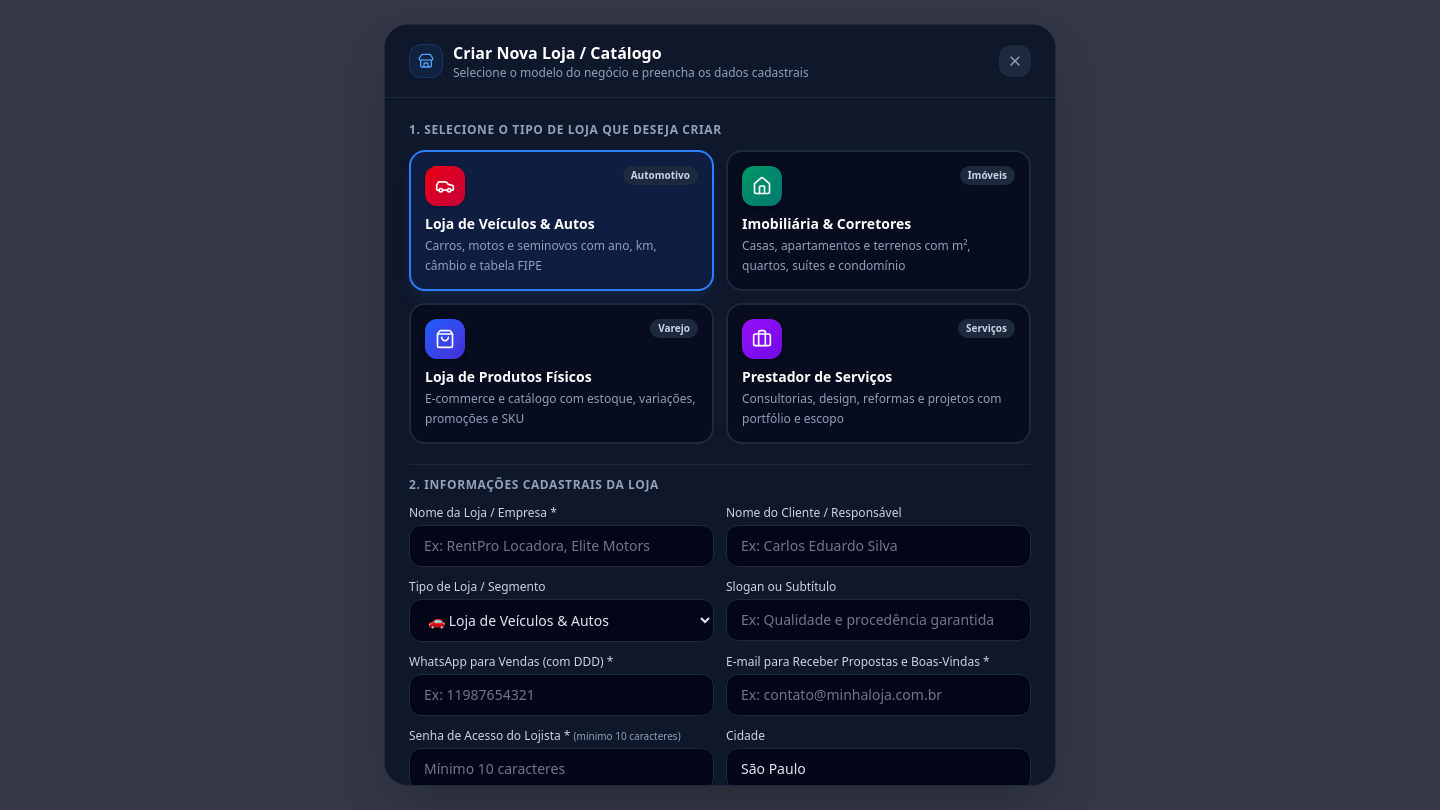
Test: StoreCreatorModal - Tratamento de Erros e Usabilidade › Componente StoreCreatorModal - Exibição, Scroll e Foco de Erro › mapeia erro 400 exibindo o campo e a mensagem de validação do servidor
Step 1. Type "Auto Peças Modelo" into the field with placeholder "Ex: RentPro Locadora, Elite Motors" → (562, 546), box [409,525,714,567]
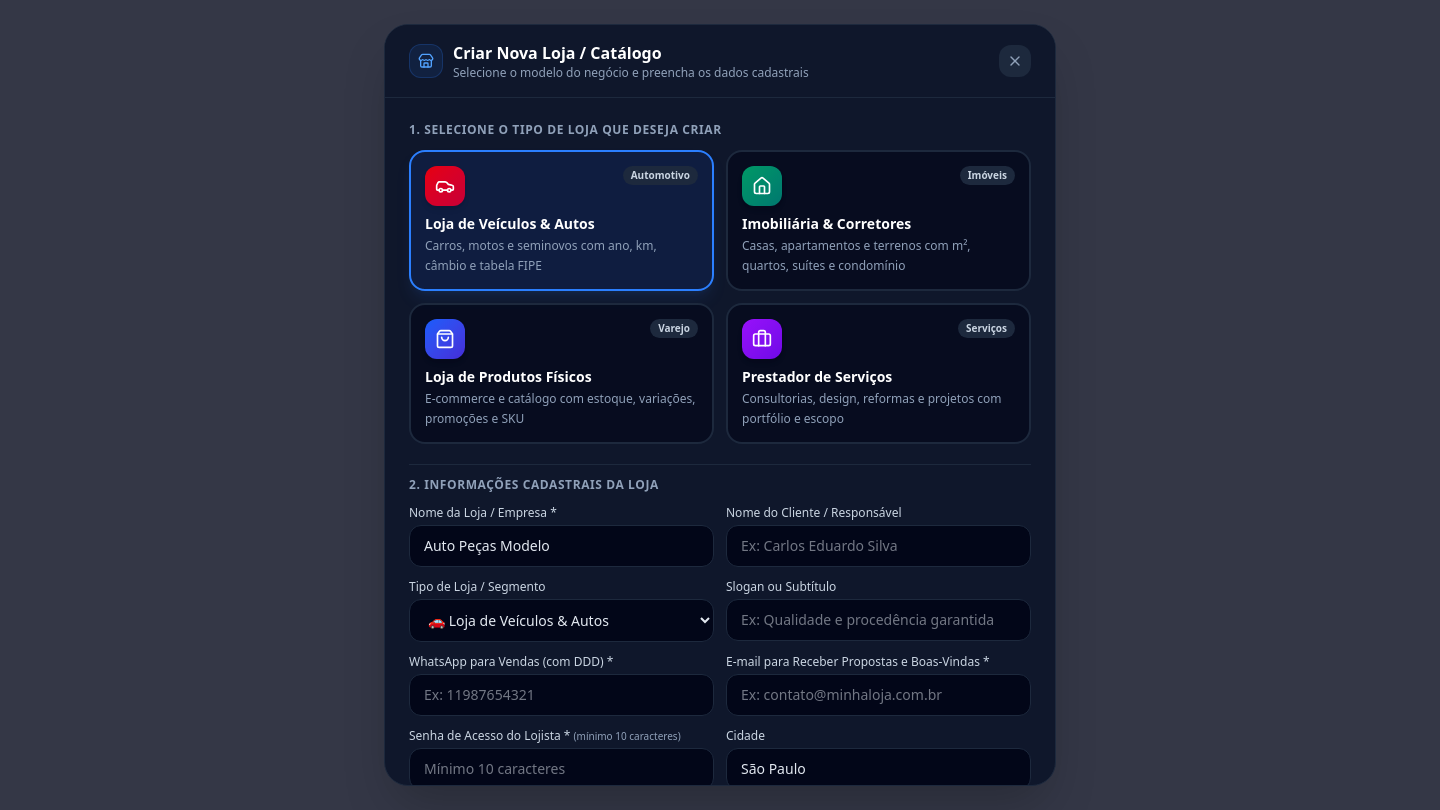
Step 2. Type "11988887777" into the field with placeholder "Ex: 11987654321" → (562, 695), box [409,674,714,716]
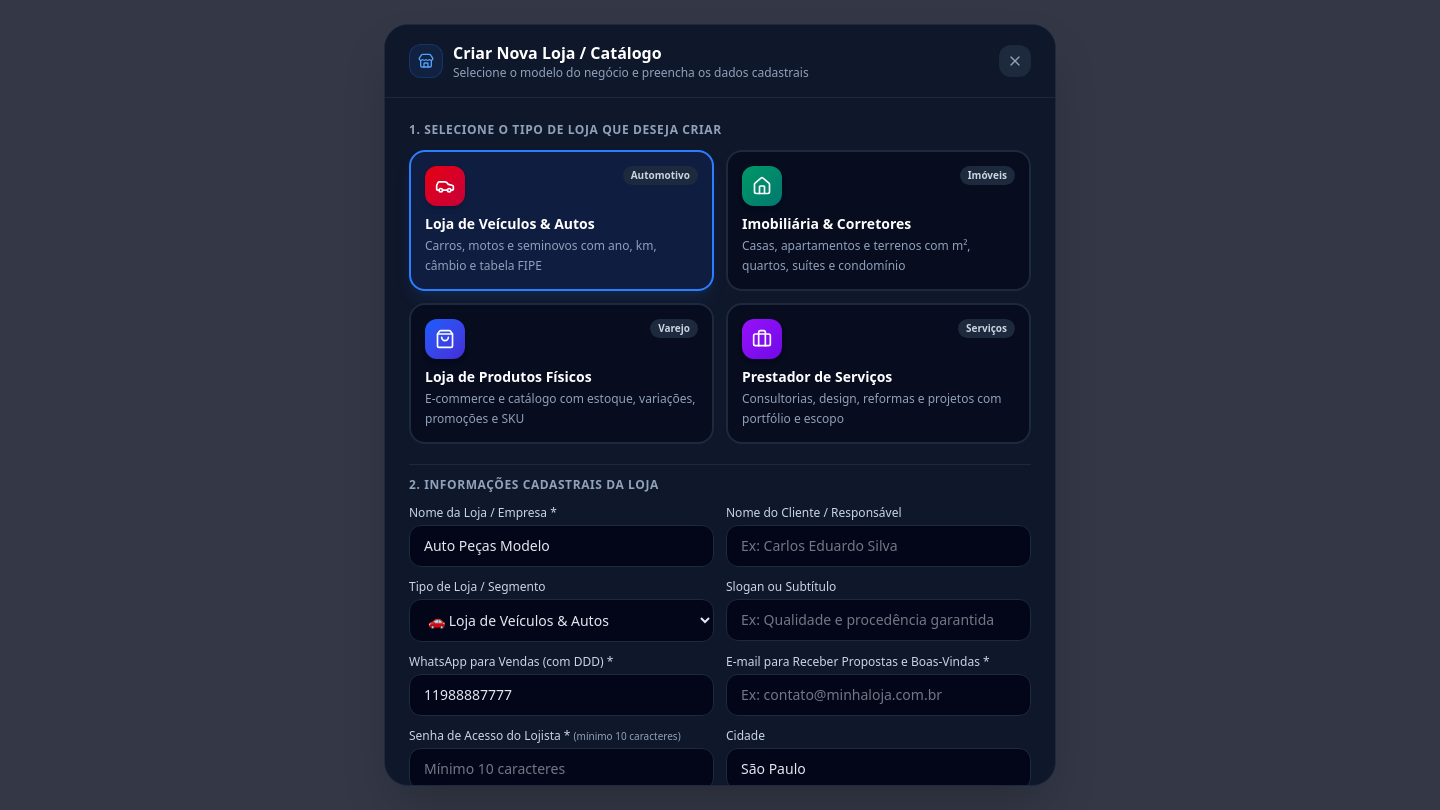
Step 3. Type "contato@modelo.com" into the field with placeholder "Ex: contato@minhaloja.com.br" → (878, 695), box [726,674,1031,716]
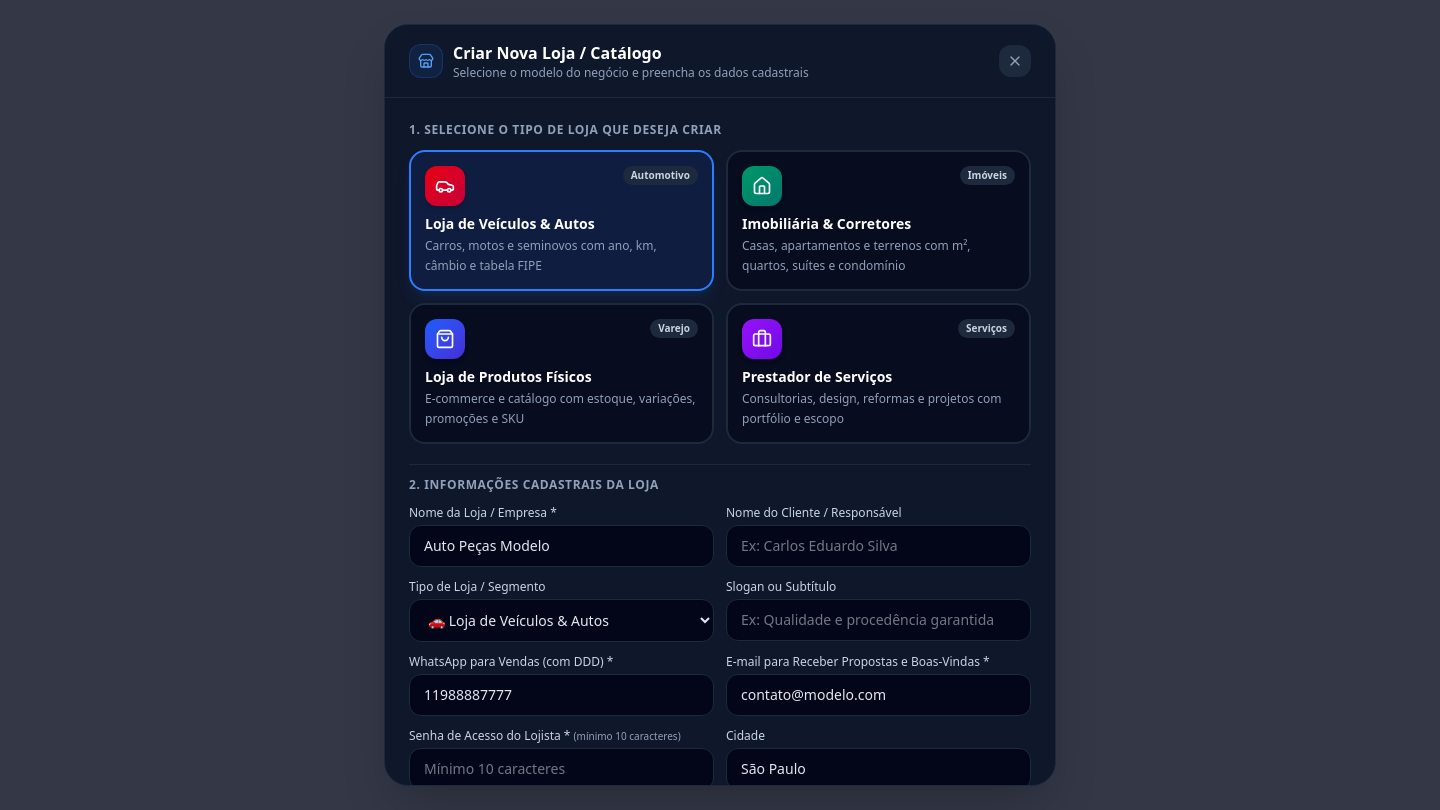
Step 4. Type "SenhaSegura123!" into the password field with placeholder "Mínimo 10 caracteres" → (562, 769), box [409,748,714,790]
(page scrolled)
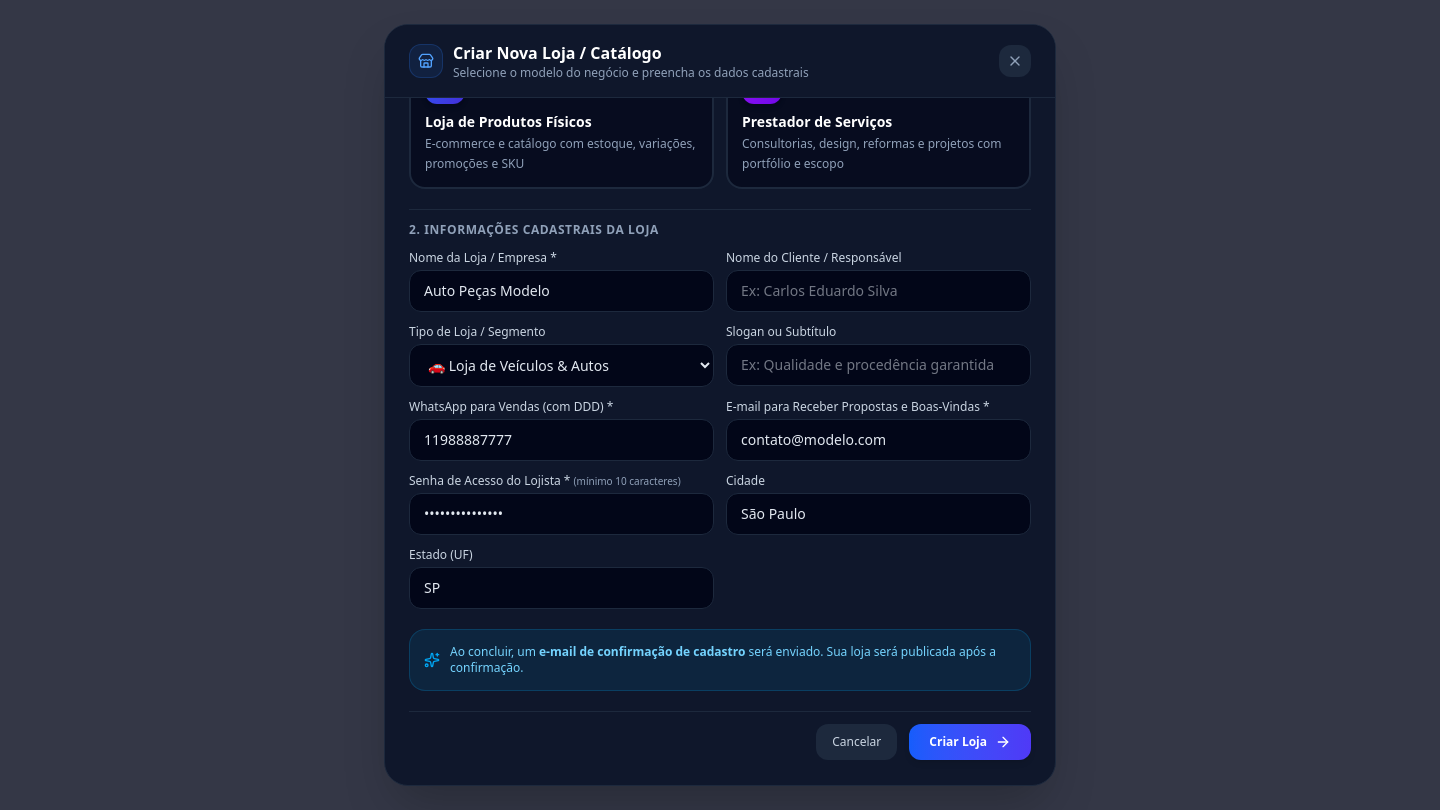
Step 5. Click the button "Criar Loja" → click(970, 742), box [909,724,1031,760]
(page scrolled)
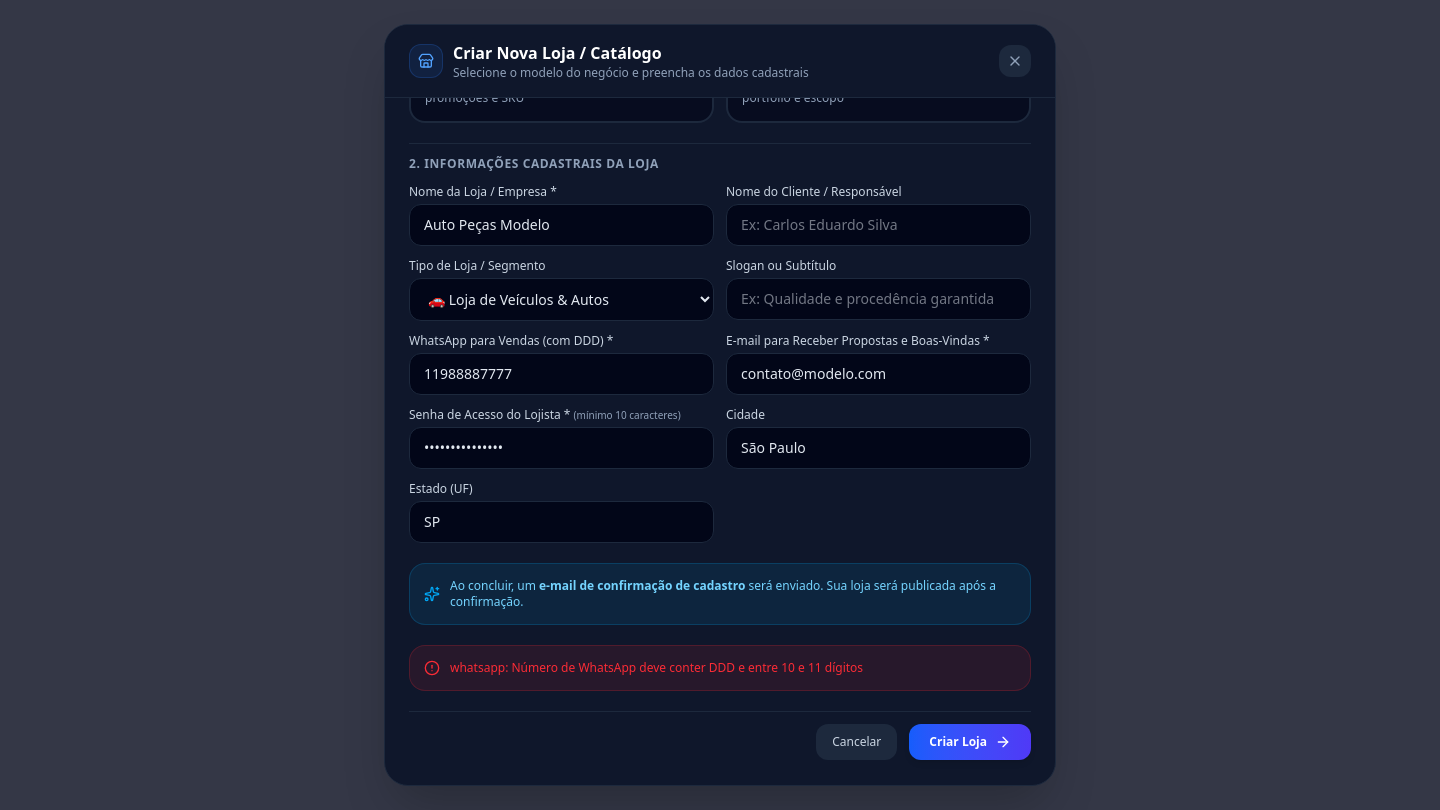
Now the message with test id "bottom-error-message" reads "whatsapp: Número de WhatsApp deve conter DDD e entre 10 e 11 dígitos", box [450,659,863,676]
